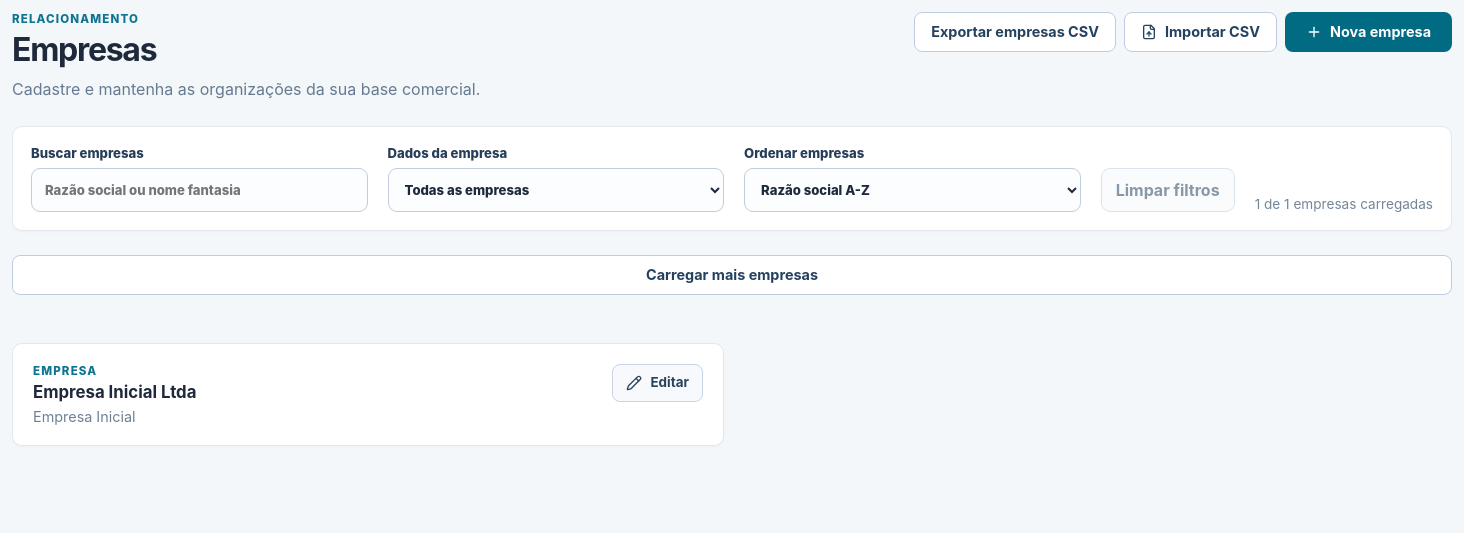
Scenario: keeps loaded companies on a page failure and retries that same page
Check: the heading "Empresa Inicial Ltda" is shown, box [33,382,196,402]
Click the button "Carregar mais empresas". click: (732, 275)
box: [12,255,1452,295]
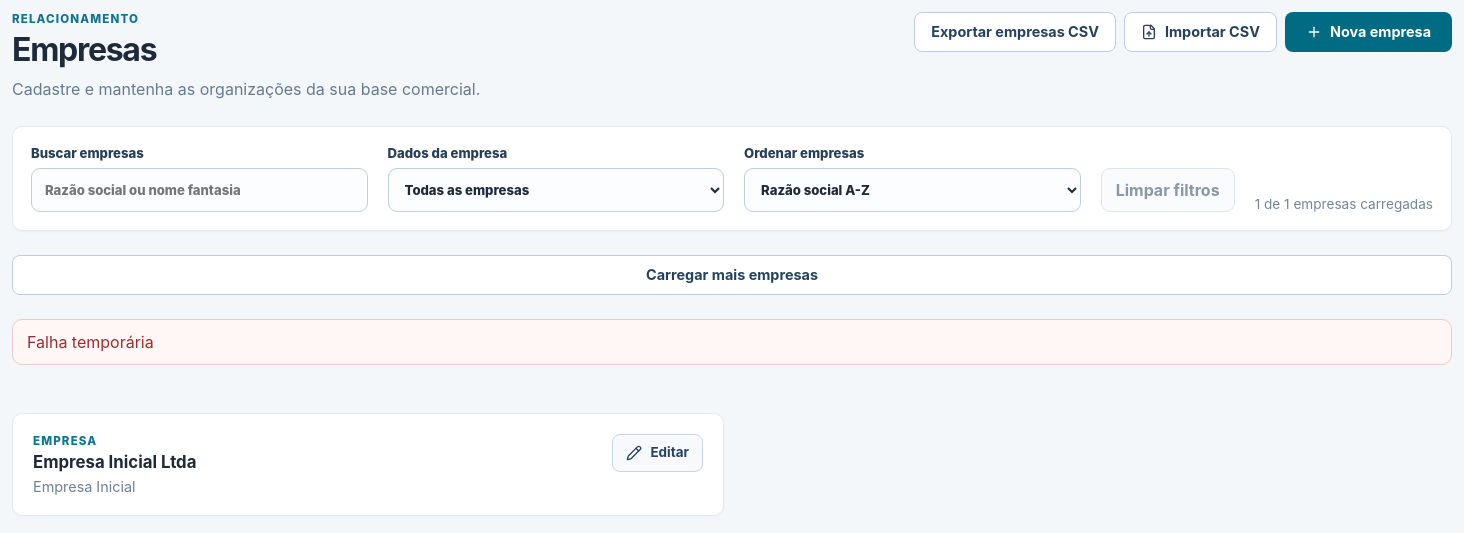
Check: the heading "Empresa Inicial Ltda" is shown, box [33,452,196,472]
Check: the message reads "Falha temporária", box [27,332,154,352]
Click the button "Carregar mais empresas". click: (732, 275)
box: [12,255,1452,295]
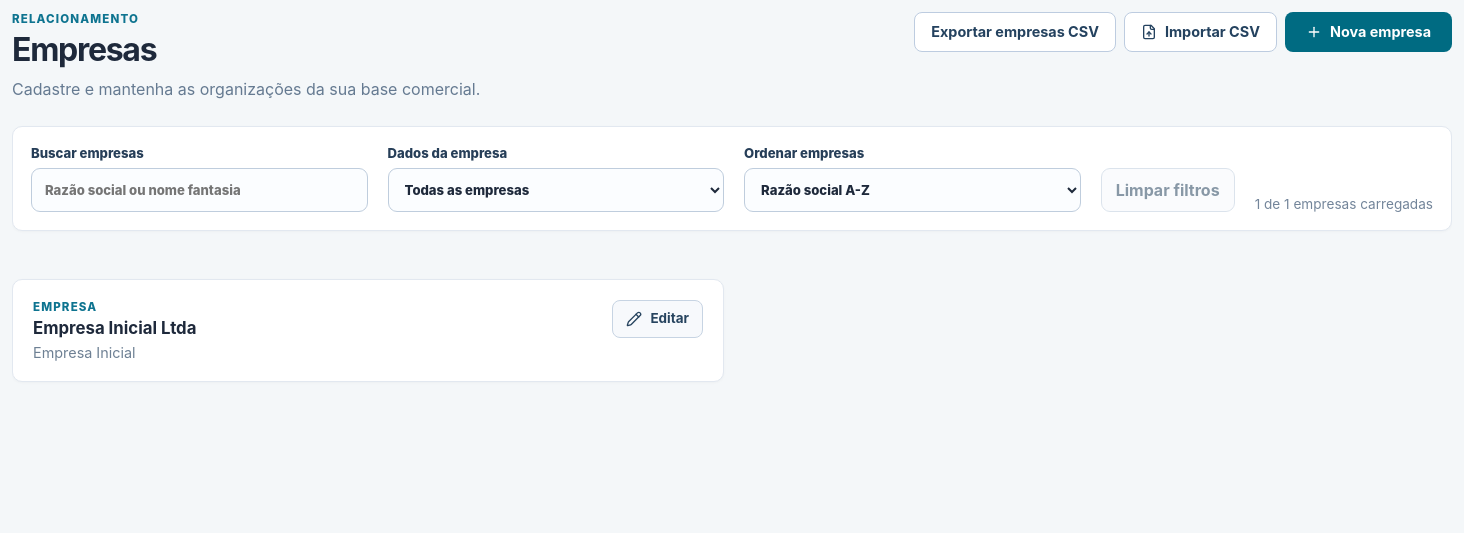
Check: the button "Carregar mais empresas" is gone
